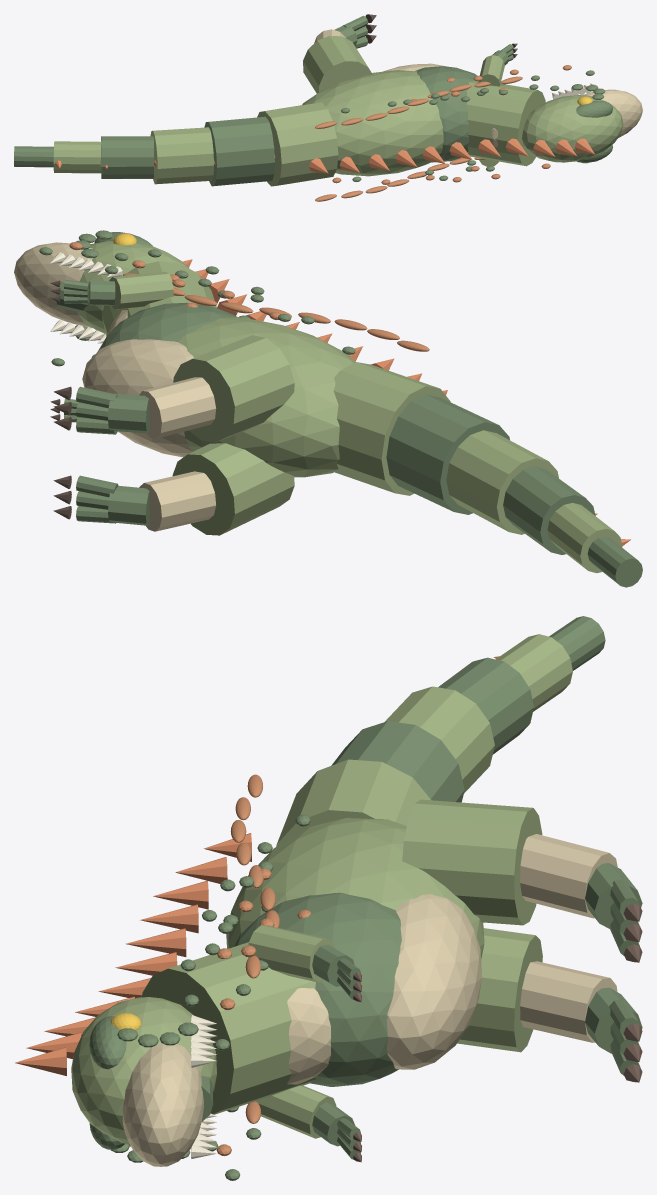
The model's file is diano_racer_trex.glb.
3 views of the same model, one above another, from view 1: azimuth 30°, elevation 25°; view 2: azimuth 150°, elevation 25°; view 3: azimuth 270°, elevation 25° (orthographic). The views are drawn at different scales.
Visible parts, largest first — view 1: Torso, Tail Segment 0, Neck, Head, Tail Segment 1, Tail Segment 2, Chest, Hind Thigh 1, Tail Segment 3, Tail Segment 4, Snout, Tail Segment 5 (+2 smaller); view 2: Torso, Tail Segment 0, Hind Thigh 1, Tail Segment 1, Hind Thigh -1, Tail Segment 2, Belly, Tail Segment 3, Hind Shin 1, Hind Shin -1, Snout, Chest (+11 smaller); view 3: Chest, Neck, Belly, Torso, Hind Thigh 1, Snout, Head, Tail Segment 0, Hind Thigh -1, Tail Segment 1, Tail Segment 2, Hind Shin 1 (+17 smaller).
Boxes of the visible parts, left/top/right/bottom form: Torso: left=302, top=70, right=443, bottom=176; Tail Segment 0: left=257, top=102, right=338, bottom=186; Neck: left=466, top=80, right=545, bottom=166; Head: left=522, top=95, right=623, bottom=162; Tail Segment 1: left=204, top=116, right=274, bottom=186; Tail Segment 2: left=150, top=127, right=213, bottom=184; Chest: left=415, top=66, right=477, bottom=162; Hind Thigh 1: left=303, top=36, right=372, bottom=93; Tail Segment 3: left=101, top=136, right=153, bottom=178; Tail Segment 4: left=53, top=141, right=101, bottom=173; Snout: left=582, top=89, right=642, bottom=137; Tail Segment 5: left=14, top=146, right=53, bottom=167; Torso: left=178, top=317, right=355, bottom=477; Tail Segment 0: left=333, top=362, right=450, bottom=495; Hind Thigh 1: left=173, top=335, right=294, bottom=442; Tail Segment 1: left=386, top=394, right=509, bottom=514; Hind Thigh -1: left=172, top=443, right=294, bottom=535; Tail Segment 2: left=446, top=430, right=558, bottom=534; Belly: left=82, top=339, right=193, bottom=457; Tail Segment 3: left=503, top=466, right=595, bottom=554; Hind Shin 1: left=139, top=377, right=216, bottom=438; Hind Shin -1: left=139, top=471, right=216, bottom=531; Snout: left=14, top=242, right=92, bottom=327; Chest: left=98, top=302, right=237, bottom=350; Chest: left=234, top=892, right=401, bottom=1086; Neck: left=142, top=942, right=315, bottom=1114; Belly: left=386, top=894, right=481, bottom=1069; Torso: left=226, top=818, right=484, bottom=958; Hind Thigh 1: left=402, top=799, right=542, bottom=925; Snout: left=122, top=1043, right=203, bottom=1166; Head: left=71, top=997, right=217, bottom=1144; Tail Segment 0: left=276, top=759, right=430, bottom=846; Hind Thigh -1: left=457, top=928, right=542, bottom=1052; Tail Segment 1: left=331, top=721, right=464, bottom=802; Tail Segment 2: left=385, top=686, right=494, bottom=793; Hind Shin 1: left=520, top=834, right=617, bottom=918.
Size of the model in its own units: 8.62 by 1.83 by 4.46.
